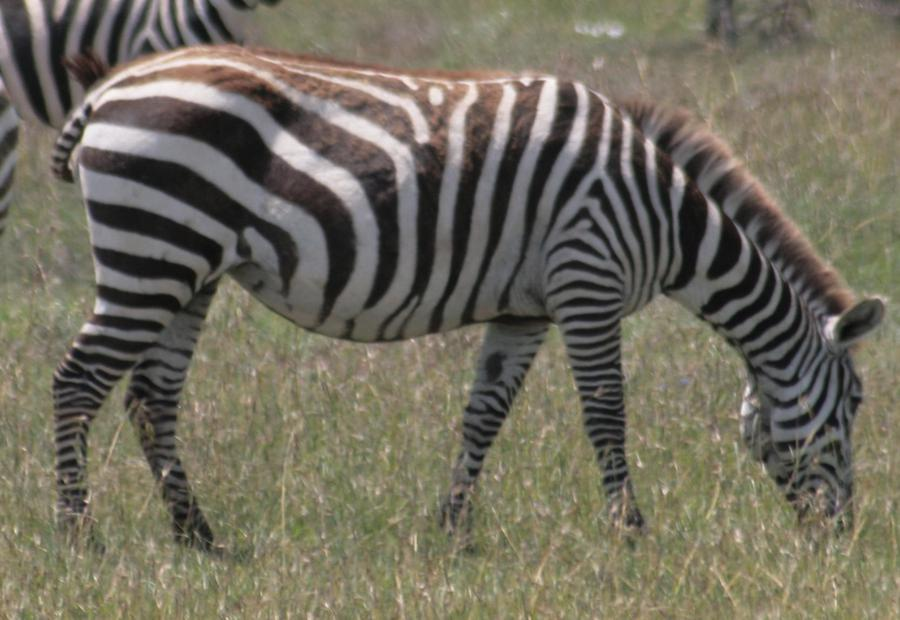zebra_plains: (85, 28, 635, 322)
